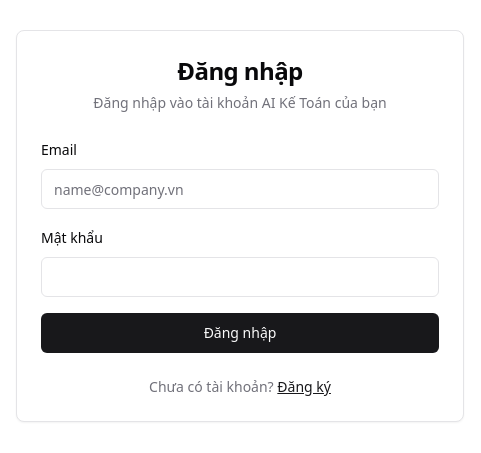
Test: LoginPage › shows validation error when submitted with empty password
Type "test@test.vn" into the field labelled "Email" at point(240, 189), box [41,169,439,209]
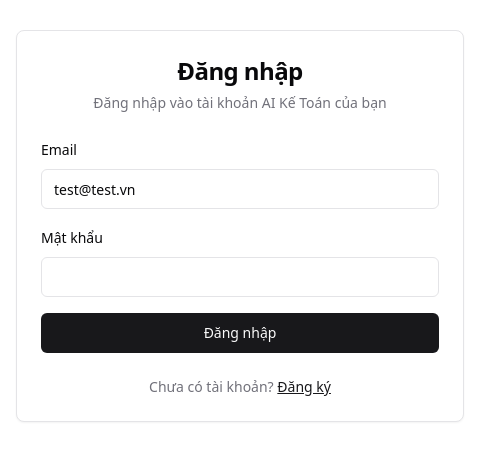
Click the button "Đăng nhập" at point(240, 333), box [41,313,439,353]
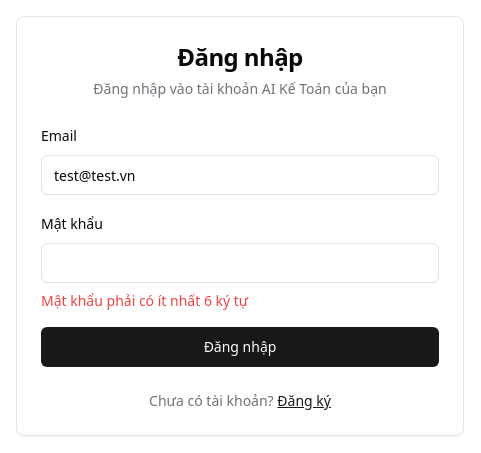
expect the text "Mật khẩu phải có ít nhất 6 ký tự" is shown: met, box [41,291,248,310]
